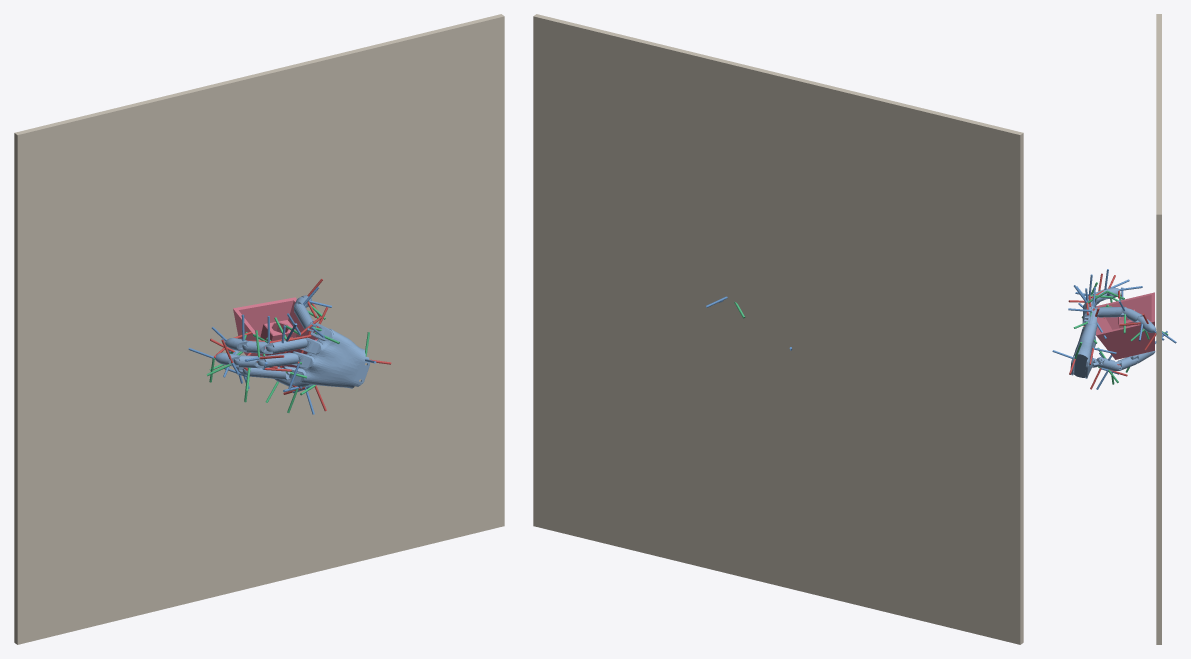
3 views of the same model, side by side, from view 1: azimuth 30°, elevation 25°; view 2: azimuth 150°, elevation 25°; view 3: azimuth 270°, elevation 25° (orthographic). The views are drawn at different scales.
Parts seen in each view (by area): view 1: environment, hand, target_object; view 2: environment; view 3: environment, hand, target_object.
Part boxes in pixels (bbox=[...]): environment: bbox=[14, 14, 504, 644]; hand: bbox=[215, 295, 369, 388]; target_object: bbox=[233, 297, 318, 373]; environment: bbox=[533, 14, 1023, 644]; environment: bbox=[1156, 14, 1161, 644]; hand: bbox=[1070, 287, 1155, 378]; target_object: bbox=[1096, 292, 1154, 359].
Size of the model in its own units: 0.7 by 0.7 by 0.1831.
